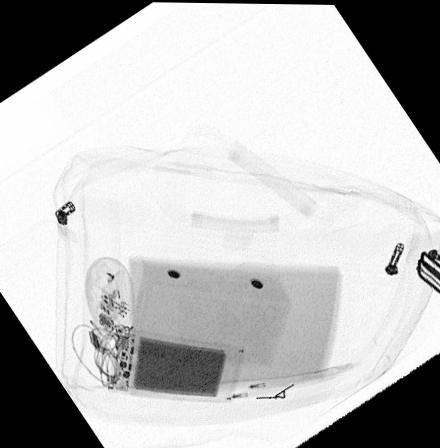Powerbank: (109, 325, 246, 400)
